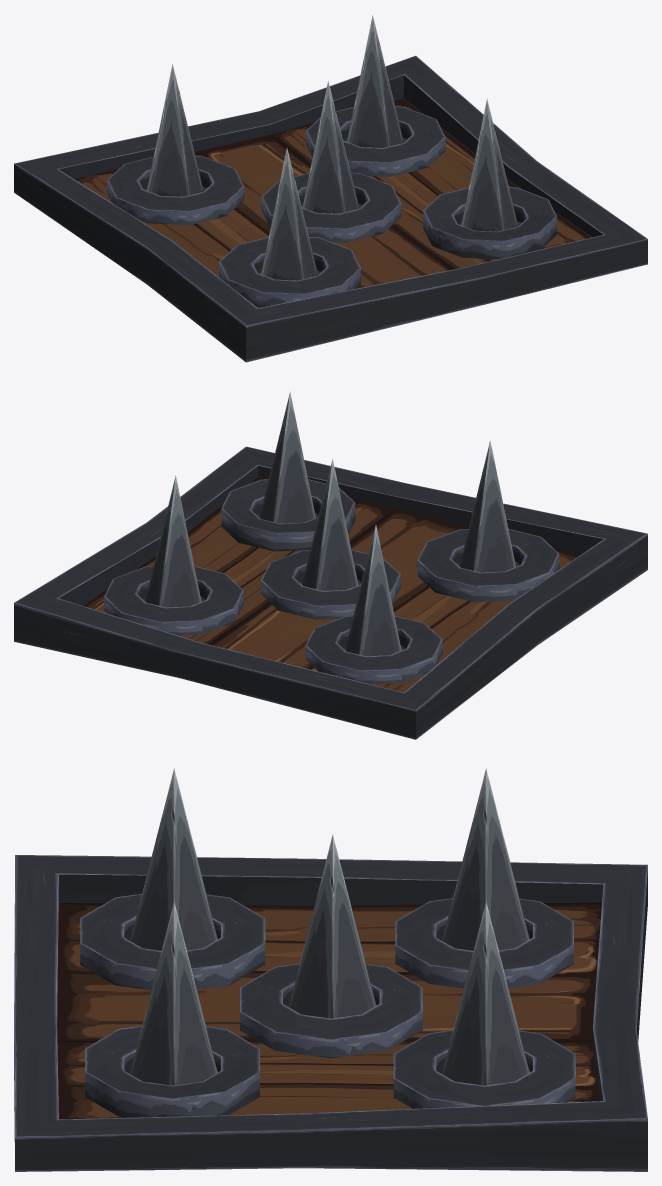
The model's file is SM_PROP_trap_floor_dungeon_04.fbx.
3 views of the same model, one above another, from view 1: azimuth 30°, elevation 25°; view 2: azimuth 150°, elevation 25°; view 3: azimuth 270°, elevation 25° (orthographic). The views are drawn at different scales.
Visible parts, largest first — view 1: SM_PROP_trap_floor_dungeon_04, SM_PROP_trap_floor_spikes_dungeon_04; view 2: SM_PROP_trap_floor_dungeon_04, SM_PROP_trap_floor_spikes_dungeon_04; view 3: SM_PROP_trap_floor_dungeon_04, SM_PROP_trap_floor_spikes_dungeon_04.
Boxes of the visible parts, bbox=[...] form: SM_PROP_trap_floor_dungeon_04: bbox=[14, 55, 647, 362]; SM_PROP_trap_floor_spikes_dungeon_04: bbox=[147, 15, 517, 280]; SM_PROP_trap_floor_dungeon_04: bbox=[14, 446, 647, 739]; SM_PROP_trap_floor_spikes_dungeon_04: bbox=[145, 391, 515, 656]; SM_PROP_trap_floor_dungeon_04: bbox=[14, 855, 647, 1171]; SM_PROP_trap_floor_spikes_dungeon_04: bbox=[130, 768, 529, 1085].
Size of the model in its own units: 200 by 73.17 by 201.
